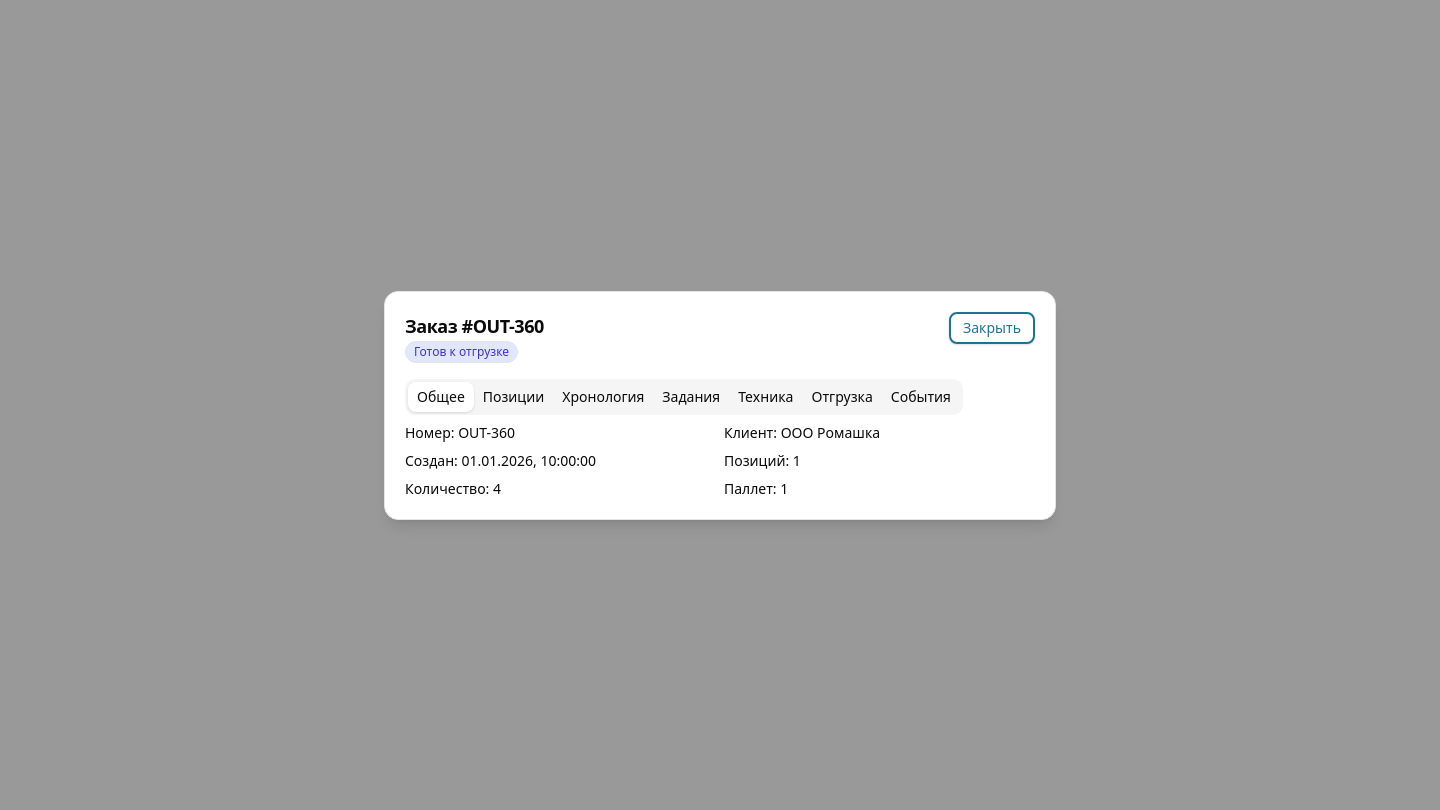
Test: OutboundOrderDetailDialog › shows order sections from the fulfillment payload
The image size is (1440, 810).
Expected: the heading "Заказ #OUT-360" is shown, x1=405 y1=312 x2=544 y2=340
Expected: the text "Клиент: ООО Ромашка" is shown, x1=724 y1=422 x2=880 y2=442
Click the tab "Позиции": [514, 396] box x1=474 y1=382 x2=553 y2=412
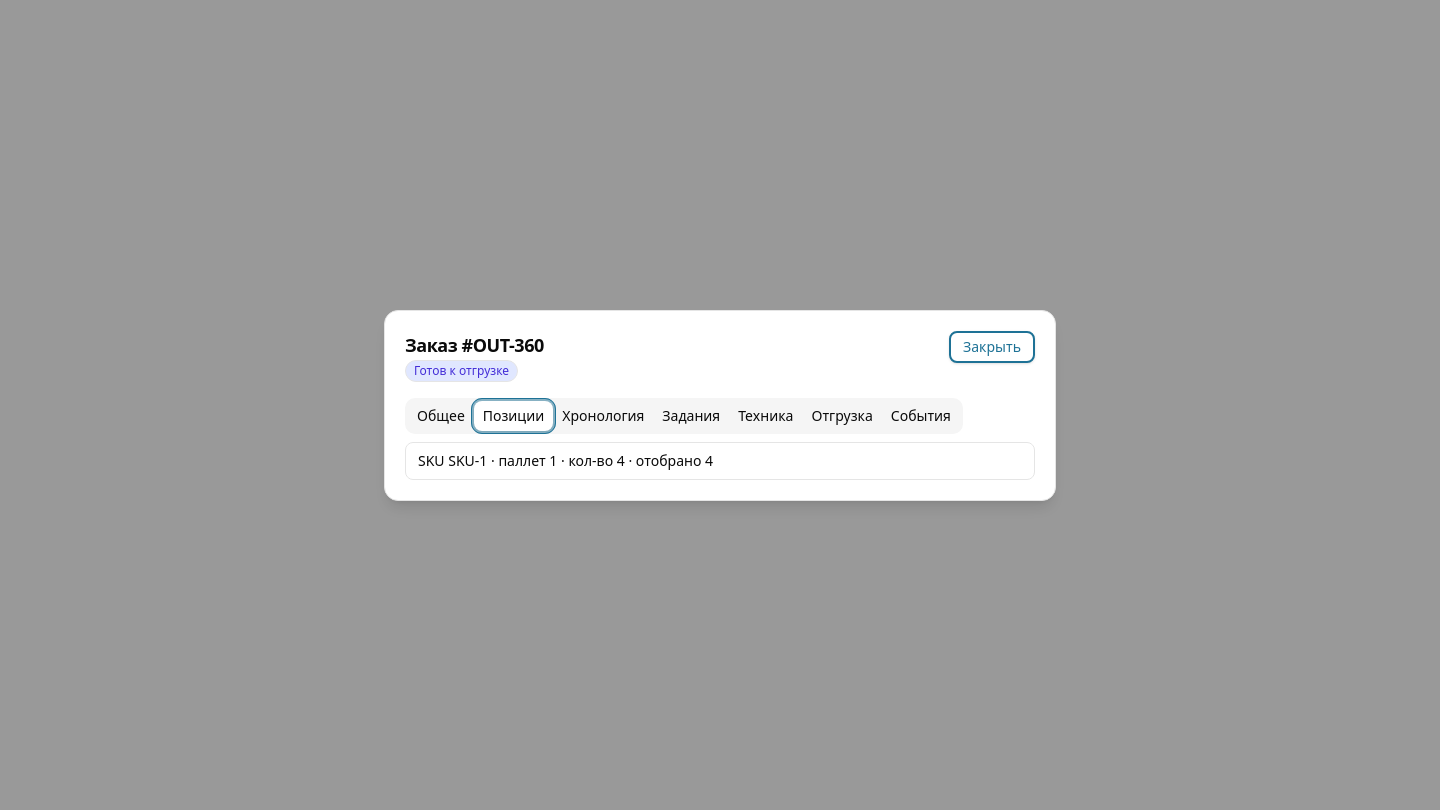
Expected: the list item "SKU SKU-1 · паллет 1 · кол-во 4 · отобрано 4" is shown, x1=418 y1=450 x2=713 y2=470
Click the tab "Хронология": [603, 416] box x1=553 y1=400 x2=653 y2=430
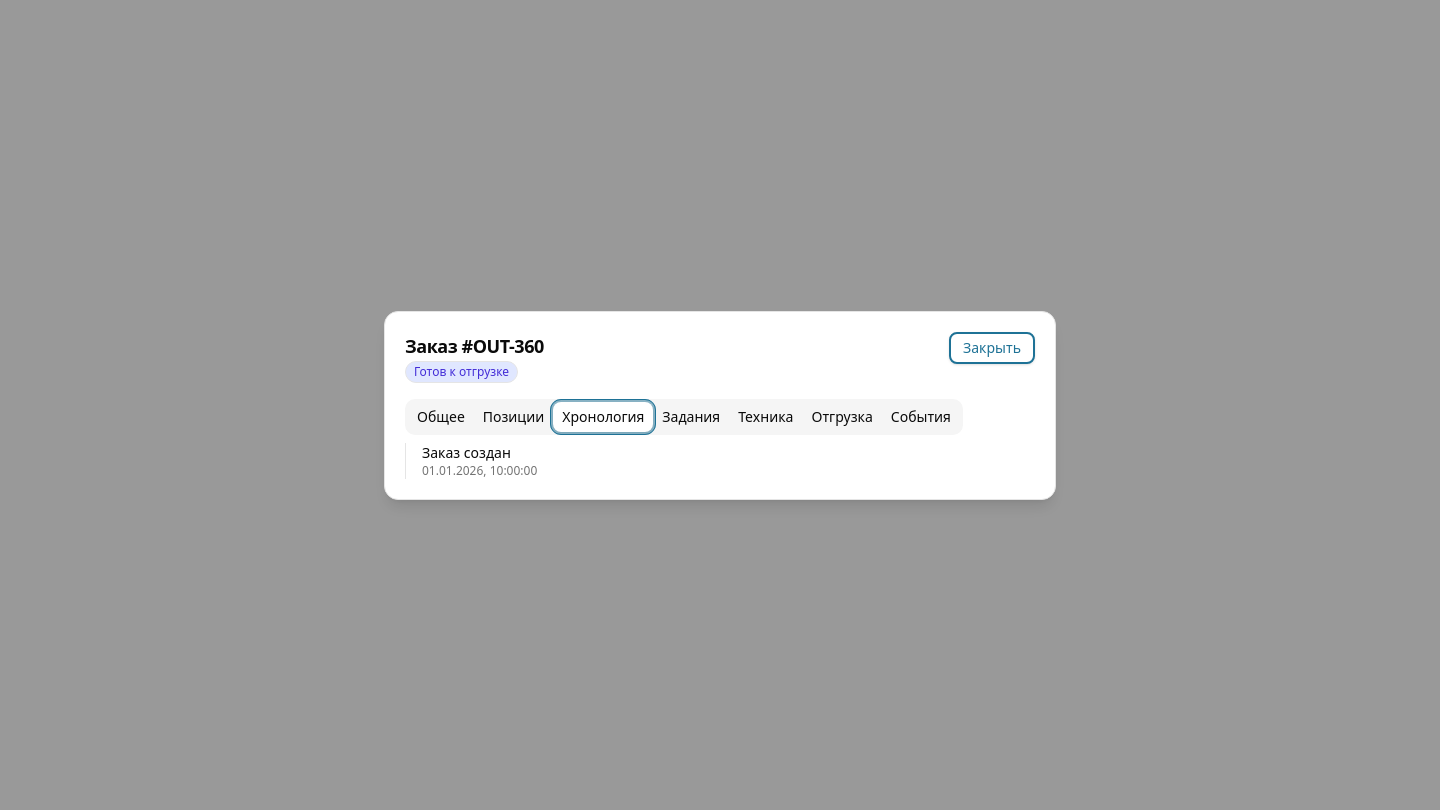
Expected: the text "Заказ создан" is shown, x1=422 y1=442 x2=511 y2=462
Click the tab "Задания": [691, 416] box x1=653 y1=402 x2=729 y2=432
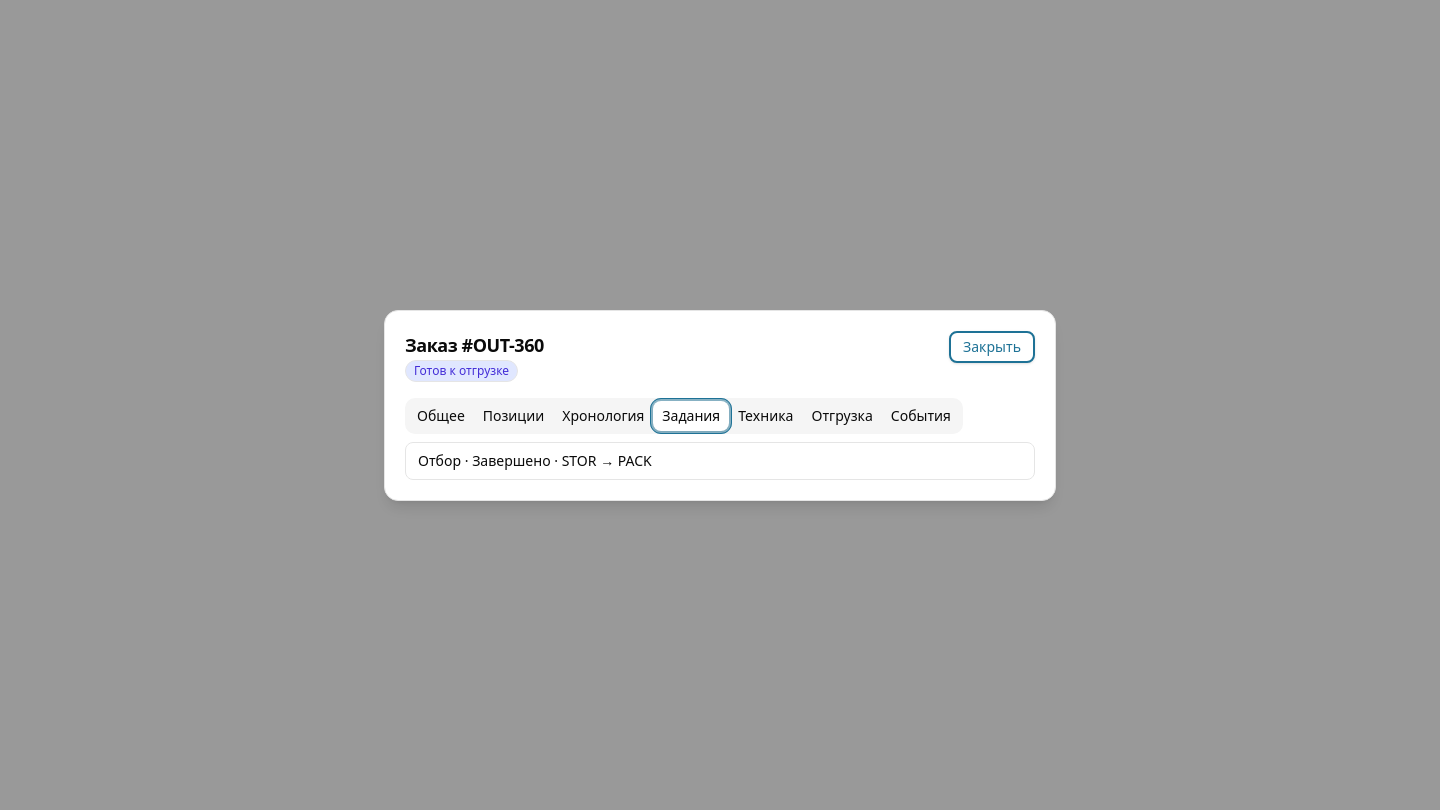
Expected: the list item "Отбор · Завершено · STOR → PACK" is shown, x1=418 y1=450 x2=652 y2=470
Click the tab "Техника": [766, 416] box x1=729 y1=400 x2=802 y2=430
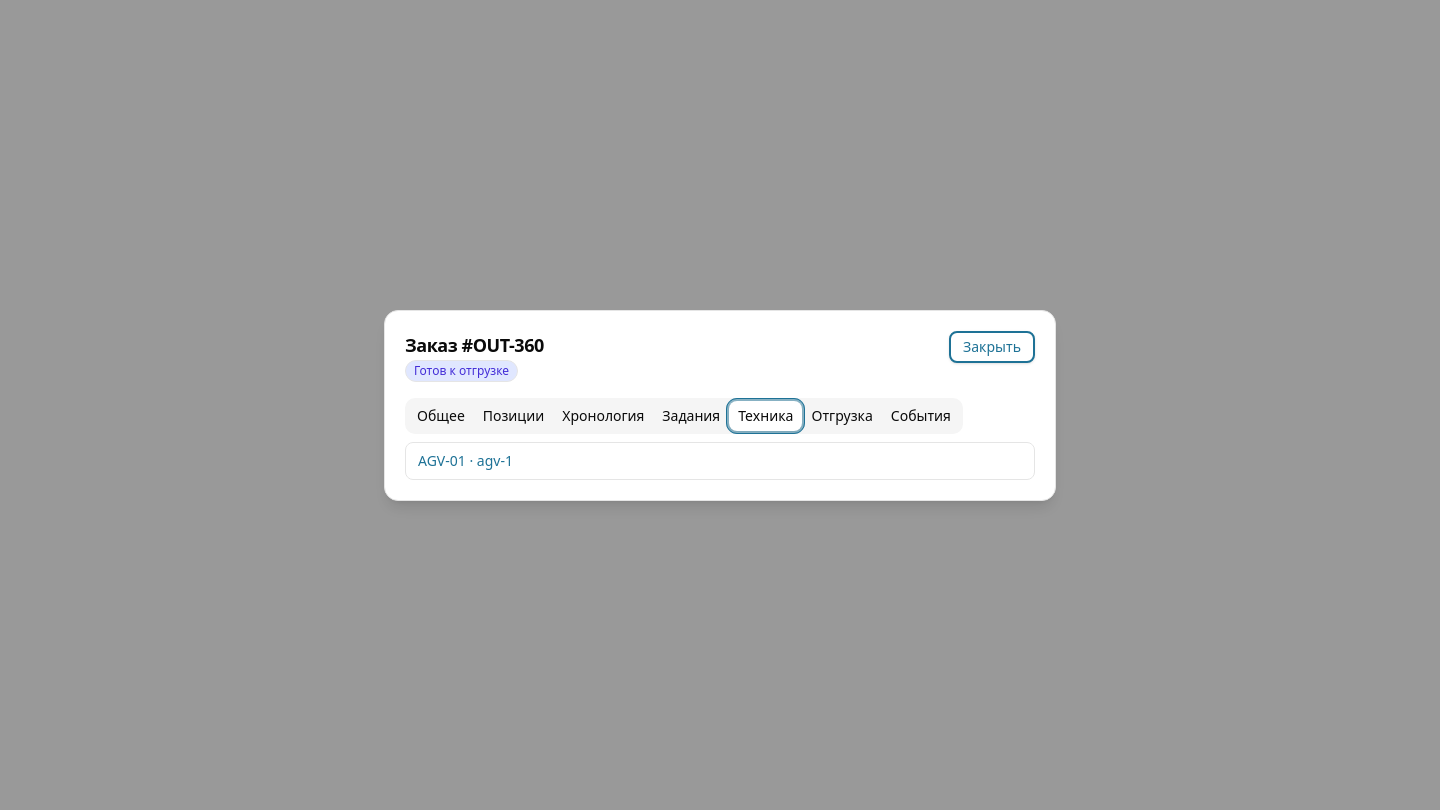
Expected: the link "AGV-01 · agv-1" is shown, x1=418 y1=450 x2=513 y2=470
Click the tab "Отгрузка": [842, 416] box x1=802 y1=400 x2=882 y2=430
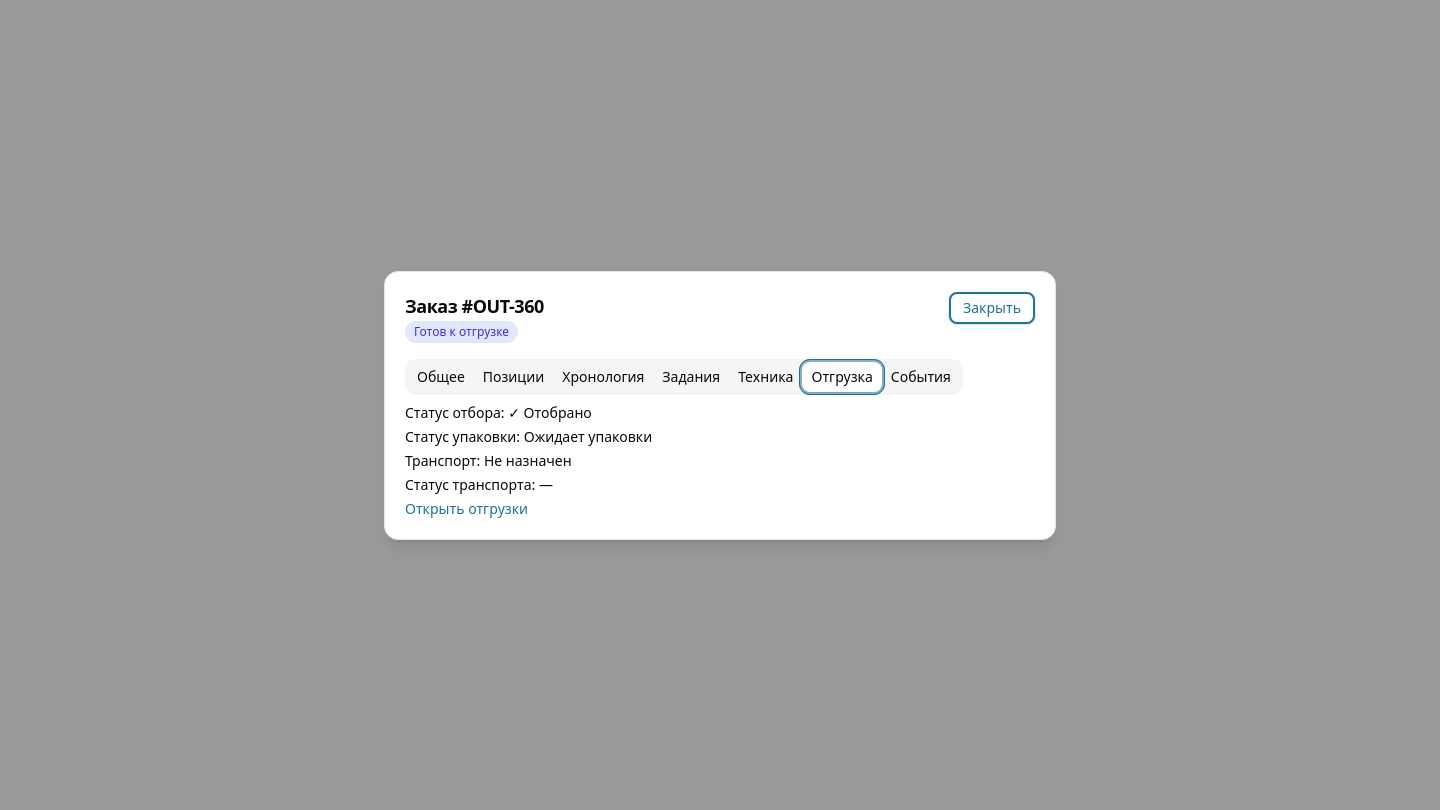
Expected: the text "Статус отбора: ✓ Отобрано" is shown, x1=405 y1=402 x2=592 y2=422
Click the tab "События": [921, 376] box x1=882 y1=362 x2=960 y2=392
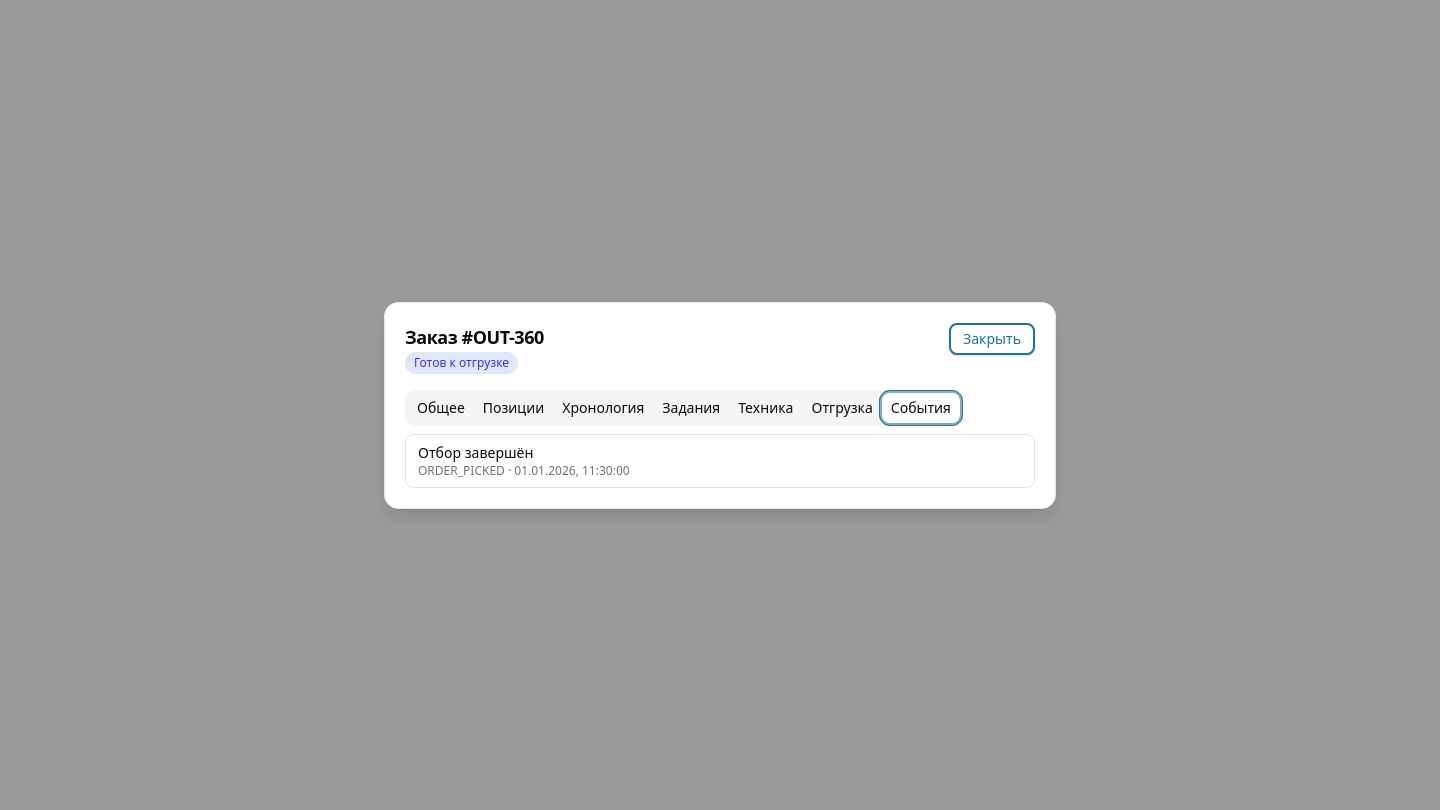
Expected: the text "Отбор завершён" is shown, x1=418 y1=442 x2=533 y2=462
